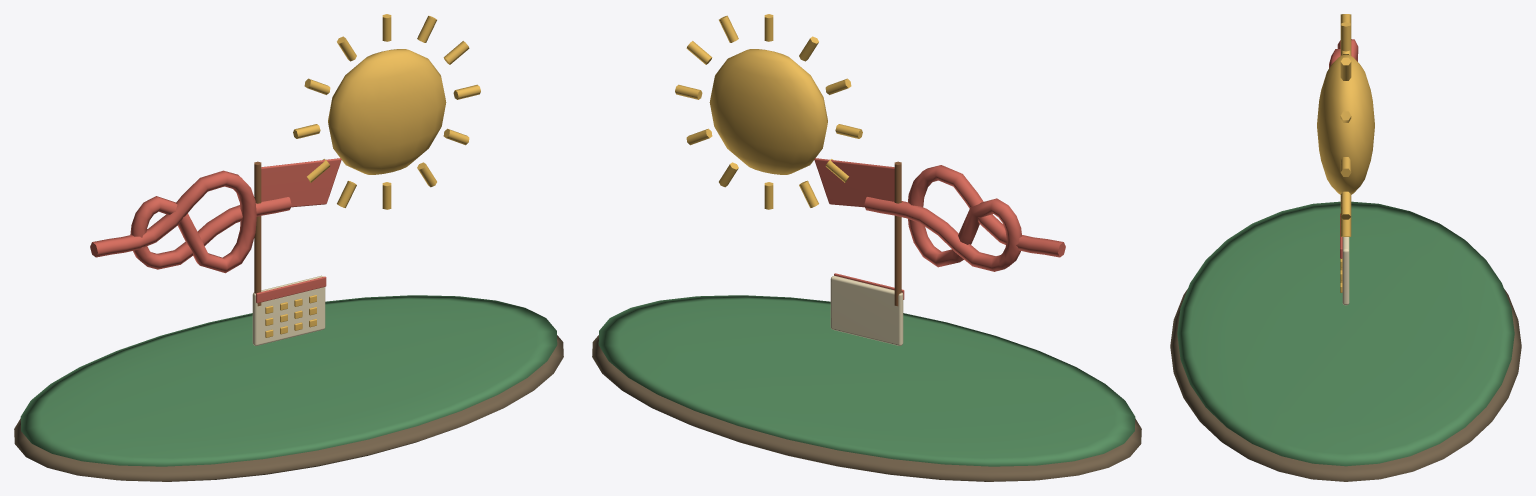
Rendered from complete-second-sun-festival-joint.glb.
3 renders of one model, left to right at view 1: azimuth 30°, elevation 25°; view 2: azimuth 150°, elevation 25°; view 3: azimuth 270°, elevation 25°, orthographic. The views are drawn at different scales.
Visible parts, largest first — view 1: complete-second-sun-festival-joint_surface_01, complete-second-sun-festival-joint_surface_03, complete-second-sun-festival-joint_surface_02, complete-second-sun-festival-joint_surface_00, complete-second-sun-festival-joint_surface_05, complete-second-sun-festival-joint_surface_04; view 2: complete-second-sun-festival-joint_surface_01, complete-second-sun-festival-joint_surface_03, complete-second-sun-festival-joint_surface_02, complete-second-sun-festival-joint_surface_00, complete-second-sun-festival-joint_surface_05, complete-second-sun-festival-joint_surface_04; view 3: complete-second-sun-festival-joint_surface_01, complete-second-sun-festival-joint_surface_03, complete-second-sun-festival-joint_surface_00, complete-second-sun-festival-joint_surface_05.
Part boxes in pixels (left/top/right/bottom): complete-second-sun-festival-joint_surface_01: left=20, top=295, right=557, bottom=466; complete-second-sun-festival-joint_surface_03: left=265, top=14, right=480, bottom=337; complete-second-sun-festival-joint_surface_02: left=90, top=158, right=341, bottom=303; complete-second-sun-festival-joint_surface_00: left=14, top=335, right=563, bottom=481; complete-second-sun-festival-joint_surface_05: left=252, top=275, right=325, bottom=345; complete-second-sun-festival-joint_surface_04: left=254, top=161, right=261, bottom=306; complete-second-sun-festival-joint_surface_01: left=598, top=295, right=1135, bottom=466; complete-second-sun-festival-joint_surface_03: left=675, top=14, right=862, bottom=209; complete-second-sun-festival-joint_surface_02: left=814, top=158, right=1065, bottom=299; complete-second-sun-festival-joint_surface_00: left=592, top=335, right=1141, bottom=481; complete-second-sun-festival-joint_surface_05: left=830, top=275, right=903, bottom=345; complete-second-sun-festival-joint_surface_04: left=894, top=161, right=901, bottom=306; complete-second-sun-festival-joint_surface_01: left=1177, top=201, right=1514, bottom=466; complete-second-sun-festival-joint_surface_03: left=1317, top=14, right=1374, bottom=292; complete-second-sun-festival-joint_surface_00: left=1170, top=289, right=1521, bottom=481; complete-second-sun-festival-joint_surface_05: left=1342, top=237, right=1349, bottom=305.
Size of the model in its own units: 4.56 by 3.05 by 2.5.
